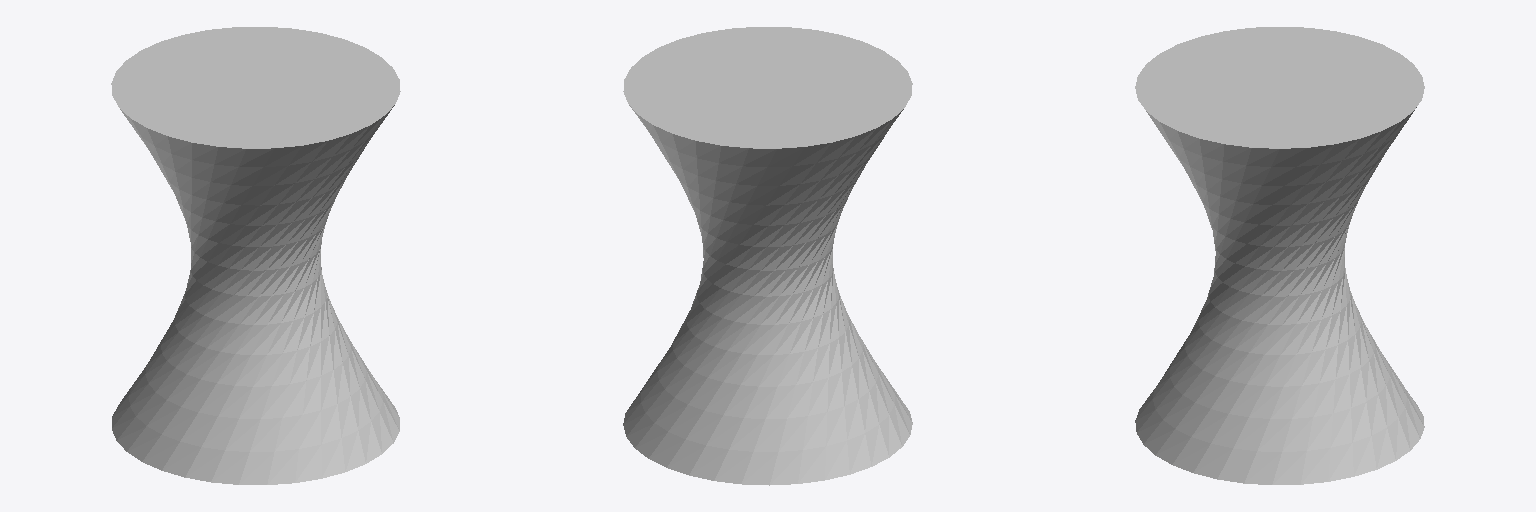
The model's file is tornado.obj.
The picture shows the model from 3 angles: view 1: azimuth 30°, elevation 25°; view 2: azimuth 150°, elevation 25°; view 3: azimuth 270°, elevation 25°; orthographic projection.
Parts seen in each view (by area): view 1: Cylinder; view 2: Cylinder; view 3: Cylinder.
Boxes of the visible parts, <box> form: Cylinder: <box>111,27,400,484</box>; Cylinder: <box>623,27,912,485</box>; Cylinder: <box>1135,27,1424,484</box>.
Bounding box in the file's own units: 31.17 × 39.93 × 31.17.